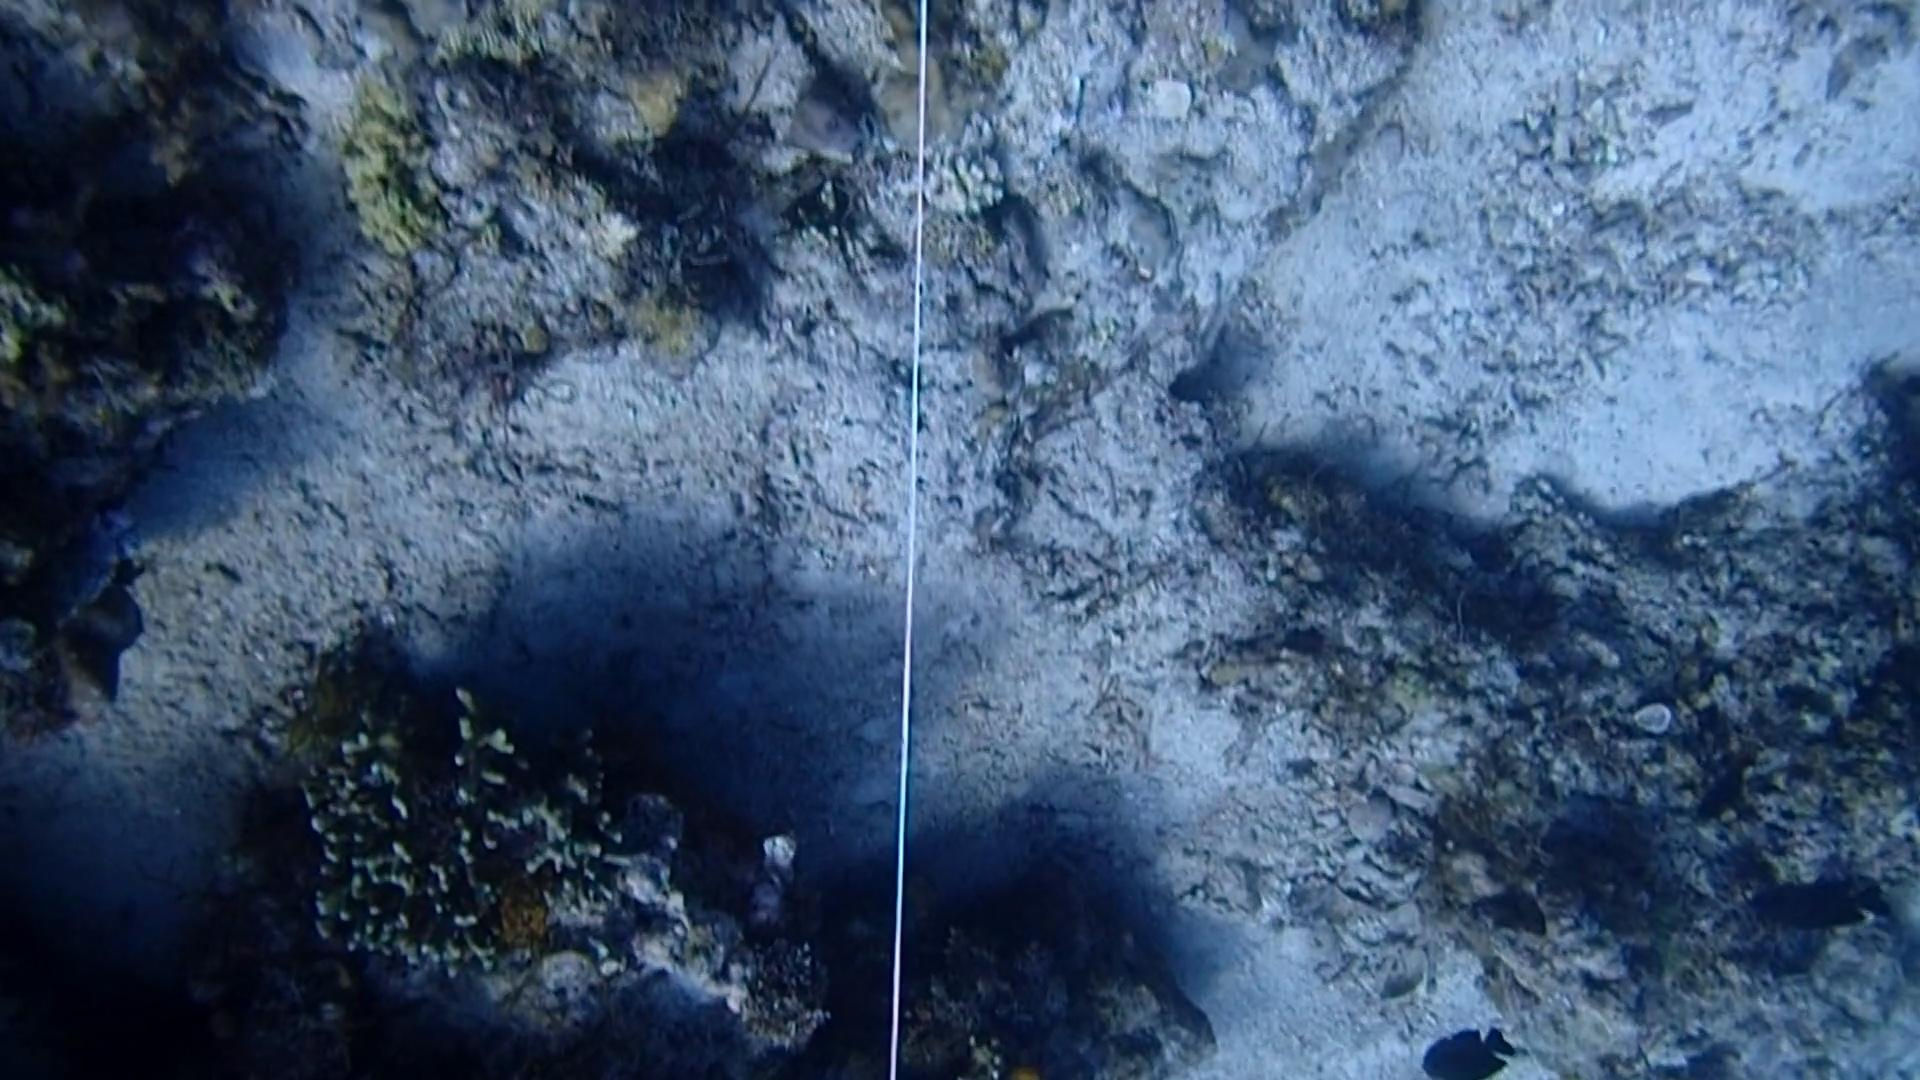Dark Fish: (1743, 870, 1895, 947), (1685, 746, 1756, 843), (1419, 1023, 1519, 1080)
